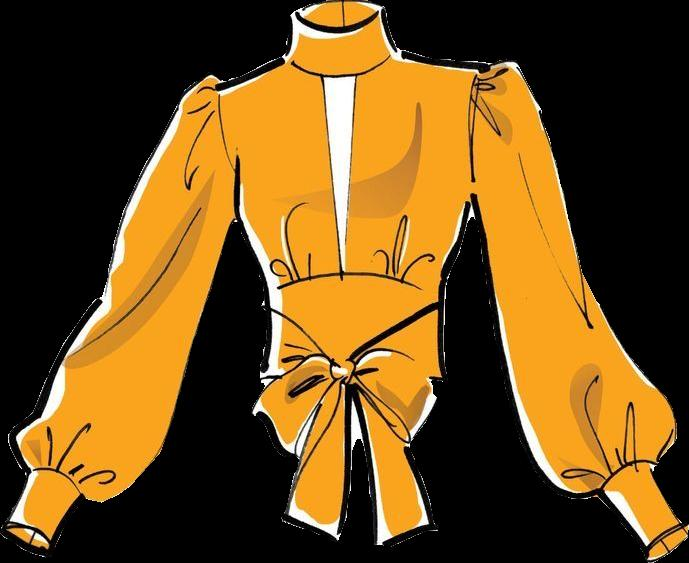Bodice: (215, 1, 481, 545)
Neckline: (320, 74, 359, 276), (263, 270, 443, 298), (282, 48, 400, 81), (289, 5, 384, 33)
Sleeve: (0, 75, 237, 555), (469, 61, 688, 562)
Sleeveline: (214, 79, 241, 216), (467, 66, 488, 209), (597, 457, 657, 498), (25, 464, 85, 502)
Waistline: (261, 374, 445, 391)
